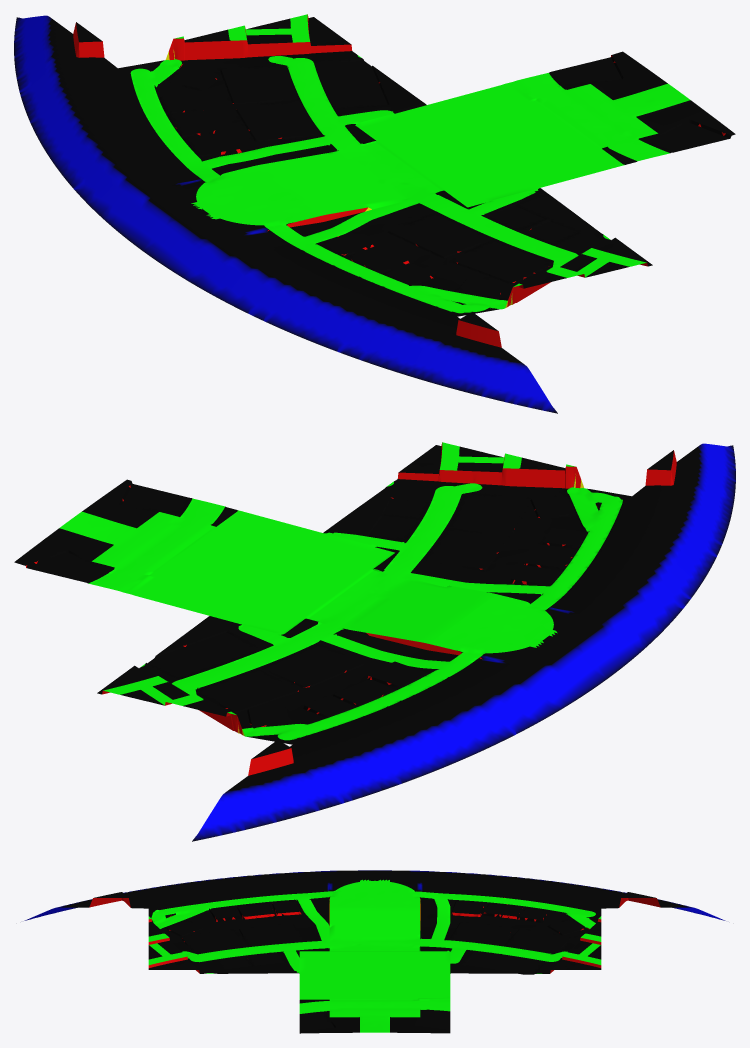
File: concordia_terrain_clases.glb
3 views of the same model, one above another, from view 1: azimuth 30°, elevation 25°; view 2: azimuth 150°, elevation 25°; view 3: azimuth 270°, elevation 25° (orthographic). The views are drawn at different scales.
Visible parts, largest first — view 1: TRN_City_Chunk_5_9_LOD0, TRN_City_Chunk_6_8_LOD0, TRN_City_Chunk_5_8_LOD0, TRN_City_Chunk_5_7_LOD0, TRN_City_Chunk_4_8_LOD0, TRN_City_Chunk_4_7_LOD0, TRN_City_Chunk_4_9_LOD0, TRN_City_Chunk_4_6_LOD0, TRN_City_Chunk_4_10_LOD0; view 2: TRN_City_Chunk_5_7_LOD0, TRN_City_Chunk_6_8_LOD0, TRN_City_Chunk_5_8_LOD0, TRN_City_Chunk_5_9_LOD0, TRN_City_Chunk_4_8_LOD0, TRN_City_Chunk_4_9_LOD0, TRN_City_Chunk_4_7_LOD0, TRN_City_Chunk_4_10_LOD0, TRN_City_Chunk_4_6_LOD0; view 3: TRN_City_Chunk_5_8_LOD0, TRN_City_Chunk_5_9_LOD0, TRN_City_Chunk_5_7_LOD0, TRN_City_Chunk_6_8_LOD0, TRN_City_Chunk_4_8_LOD0, TRN_City_Chunk_4_7_LOD0, TRN_City_Chunk_4_9_LOD0, TRN_City_Chunk_4_6_LOD0, TRN_City_Chunk_4_10_LOD0.
Part boxes in pixels (x1,y1,x2,y2): TRN_City_Chunk_5_9_LOD0: [118, 14, 426, 154]; TRN_City_Chunk_6_8_LOD0: [427, 51, 735, 187]; TRN_City_Chunk_5_8_LOD0: [231, 105, 539, 235]; TRN_City_Chunk_5_7_LOD0: [344, 188, 652, 316]; TRN_City_Chunk_4_8_LOD0: [92, 155, 343, 290]; TRN_City_Chunk_4_7_LOD0: [205, 235, 456, 361]; TRN_City_Chunk_4_9_LOD0: [26, 68, 230, 207]; TRN_City_Chunk_4_6_LOD0: [366, 312, 557, 413]; TRN_City_Chunk_4_10_LOD0: [14, 15, 117, 113]; TRN_City_Chunk_5_7_LOD0: [323, 442, 631, 581]; TRN_City_Chunk_6_8_LOD0: [14, 479, 322, 615]; TRN_City_Chunk_5_8_LOD0: [210, 533, 518, 664]; TRN_City_Chunk_5_9_LOD0: [97, 616, 403, 744]; TRN_City_Chunk_4_8_LOD0: [406, 580, 657, 718]; TRN_City_Chunk_4_9_LOD0: [293, 664, 544, 789]; TRN_City_Chunk_4_7_LOD0: [519, 496, 723, 635]; TRN_City_Chunk_4_10_LOD0: [192, 740, 383, 841]; TRN_City_Chunk_4_6_LOD0: [632, 443, 735, 541]; TRN_City_Chunk_5_8_LOD0: [299, 907, 450, 973]; TRN_City_Chunk_5_9_LOD0: [450, 908, 601, 974]; TRN_City_Chunk_5_7_LOD0: [148, 908, 299, 973]; TRN_City_Chunk_6_8_LOD0: [299, 973, 450, 1033]; TRN_City_Chunk_4_8_LOD0: [299, 870, 450, 911]; TRN_City_Chunk_4_7_LOD0: [148, 872, 299, 910]; TRN_City_Chunk_4_9_LOD0: [450, 872, 601, 911]; TRN_City_Chunk_4_6_LOD0: [24, 888, 148, 920]; TRN_City_Chunk_4_10_LOD0: [601, 888, 725, 920].
Size of what is drawn, in the model's own units: 137 by 9.5 by 239.
7 materials, 7 textured.
